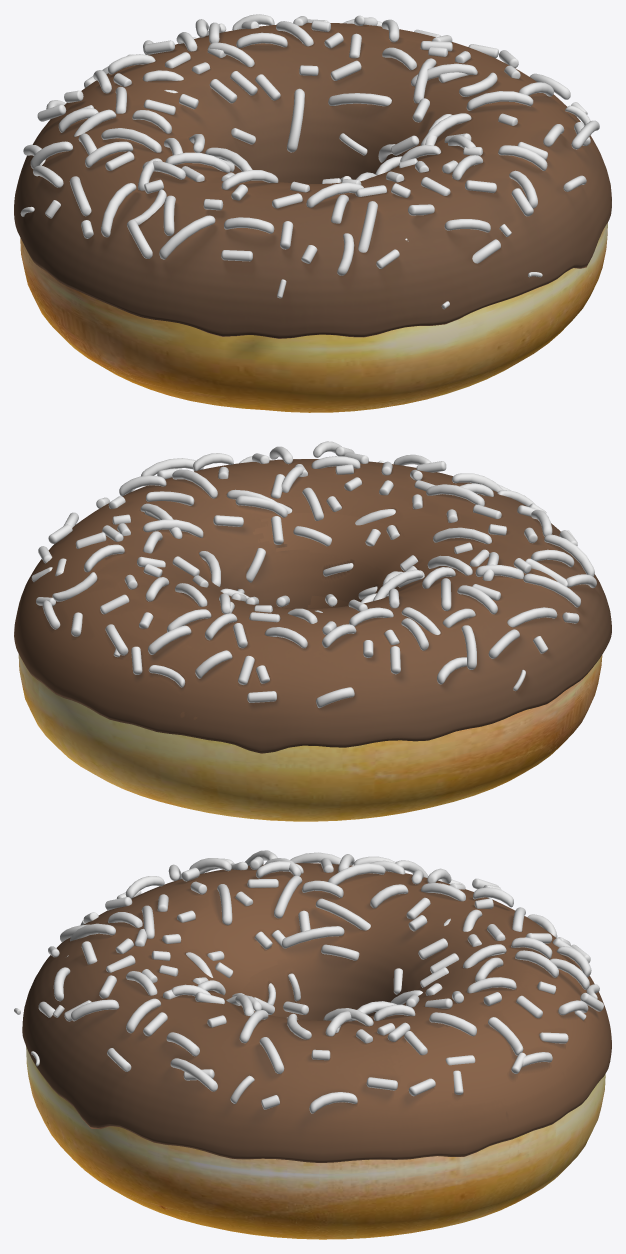
The model's file is coffee white vermicheli.glb.
3 renders of one model, top to bottom at view 1: azimuth 30°, elevation 25°; view 2: azimuth 150°, elevation 25°; view 3: azimuth 270°, elevation 25°, orthographic. The views are drawn at different scales.
Parts seen in each view (by area): view 1: coffee.001, coffee, blue.002, Torus; view 2: coffee, coffee.001, blue.002, Torus; view 3: coffee, coffee.001, Torus, blue.002.
Boxes of the visible parts, box(x1,y1,x2,y2) form: coffee.001: box(14, 22, 611, 338); coffee: box(14, 23, 611, 338); blue.002: box(20, 14, 599, 309); Torus: box(20, 222, 607, 412); coffee: box(14, 459, 605, 753); coffee.001: box(14, 459, 611, 753); blue.002: box(31, 441, 596, 707); Torus: box(18, 654, 602, 821); coffee: box(24, 863, 611, 1162); coffee.001: box(22, 863, 611, 1162); Torus: box(26, 1046, 605, 1239); blue.002: box(14, 850, 603, 1113).
Size of the model in its own units: 0.1996 by 0.0773 by 0.2006.
4 materials, 2 textured.
